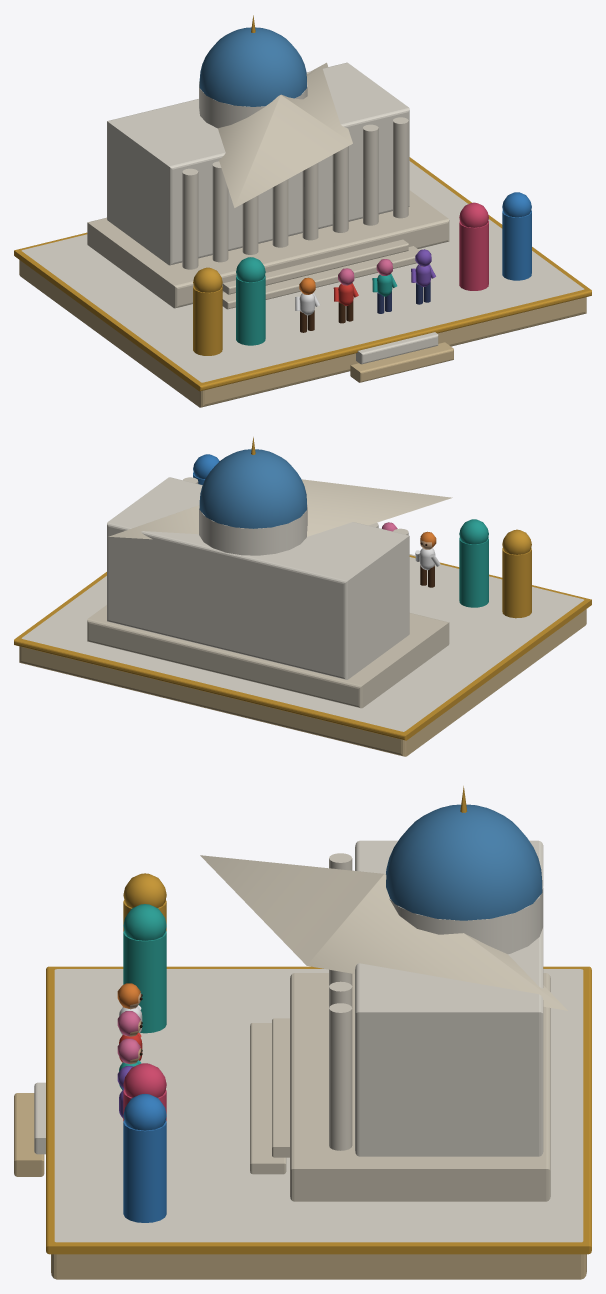
The model's file is statePalace.glb.
3 views of the same model, one above another, from view 1: azimuth 30°, elevation 25°; view 2: azimuth 150°, elevation 25°; view 3: azimuth 270°, elevation 25° (orthographic). The views are drawn at different scales.
Parts seen in each view (by area): view 1: part_000; view 2: part_000; view 3: part_000.
Boxes of the visible parts, left/top/right/bottom form: part_000: left=14, top=15, right=591, bottom=407; part_000: left=14, top=437, right=591, bottom=756; part_000: left=14, top=786, right=591, bottom=1279.
Size of the model in its own units: 9.14 by 5.45 by 7.98.
